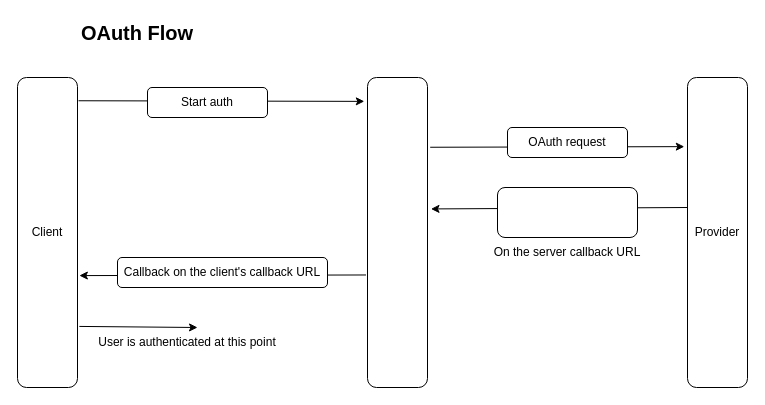
This 765x405 diagram has some shape labels left out. Each missing label, with the centre of its shape:
Code Grant (Refresh token, user): pixel 567 212
Server: pixel 397 232
